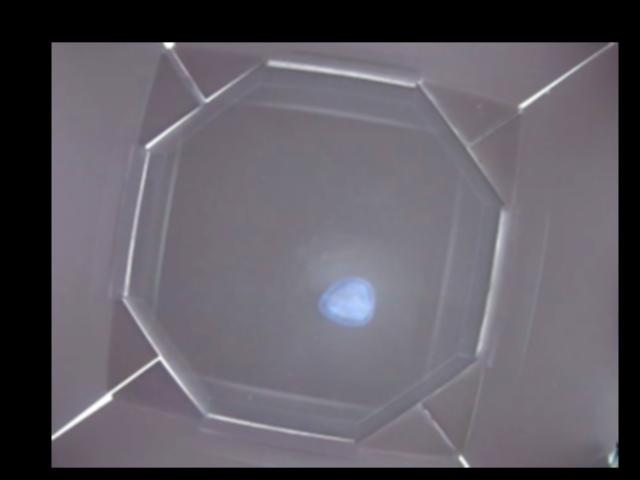Pebble: (319, 274, 374, 325)
